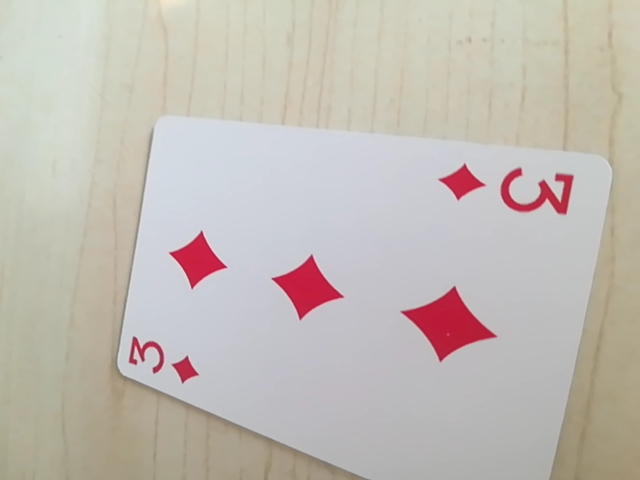fk 3: (436, 160, 577, 221), (124, 327, 203, 387)
